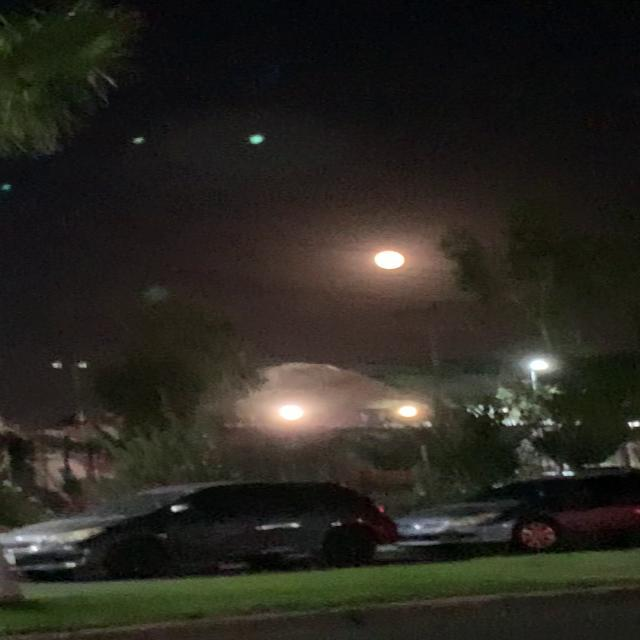moon: (364, 252, 418, 278)
